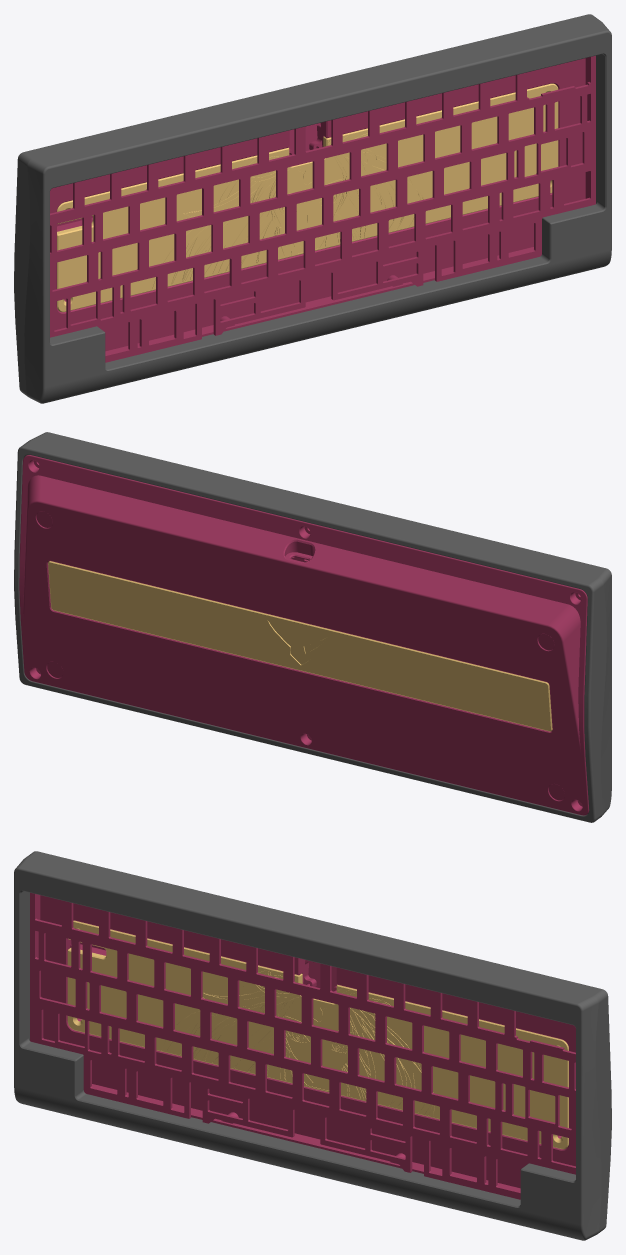
File: geass-bowlanci.fbx
The picture shows the model from 3 angles, top to bottom: view 1: azimuth 30°, elevation 25°; view 2: azimuth 150°, elevation 25°; view 3: azimuth 330°, elevation 25°; orthographic projection.
Parts seen in each view (by area): view 1: HHKBTop, Plate, Weight, Bottom; view 2: Bottom, HHKBTop, Weight; view 3: HHKBTop, Plate, Weight, Bottom.
Part boxes in pixels (x1,y1,x2,y2): HHKBTop: (14, 14, 611, 403); Plate: (50, 55, 595, 362); Weight: (57, 83, 558, 312); Bottom: (50, 57, 589, 354); Bottom: (19, 455, 589, 815); HHKBTop: (14, 432, 611, 822); Weight: (48, 561, 552, 731); HHKBTop: (14, 851, 611, 1240); Plate: (30, 892, 575, 1199); Weight: (67, 920, 568, 1149); Bottom: (36, 894, 575, 1191).
Size of the model in its own units: 298 by 118 by 30.49.
